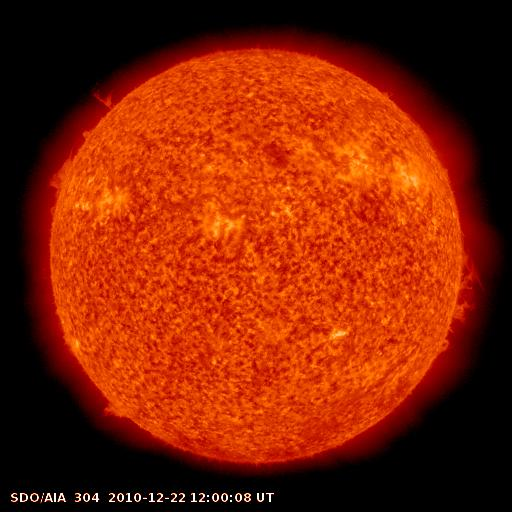prominence: (427, 251, 490, 359), (32, 151, 80, 215), (72, 81, 122, 142), (81, 387, 140, 436)
